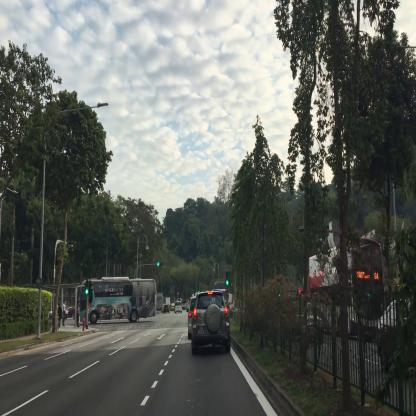green_traffic_light: (226, 271, 229, 286), (86, 280, 88, 294), (157, 262, 163, 266)
